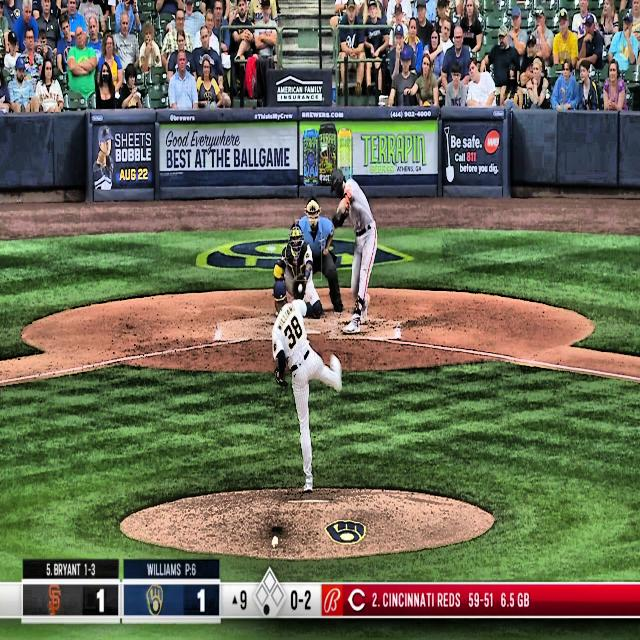baseball: (297, 283, 303, 294)
